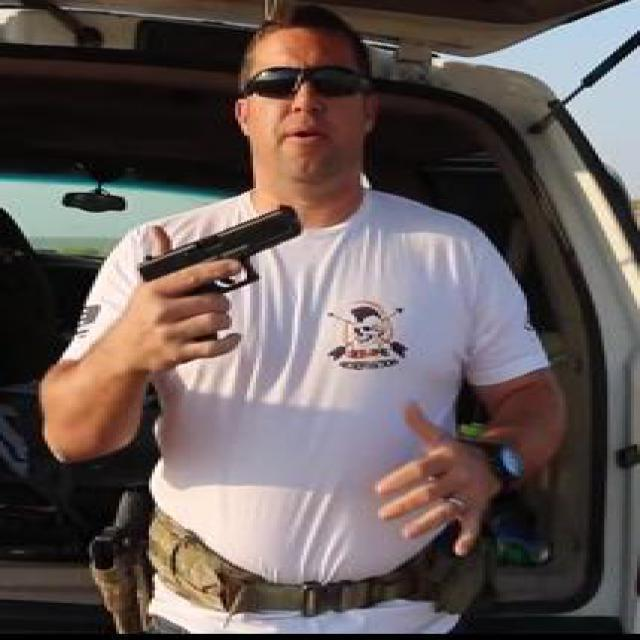gun: (132, 202, 300, 352)
